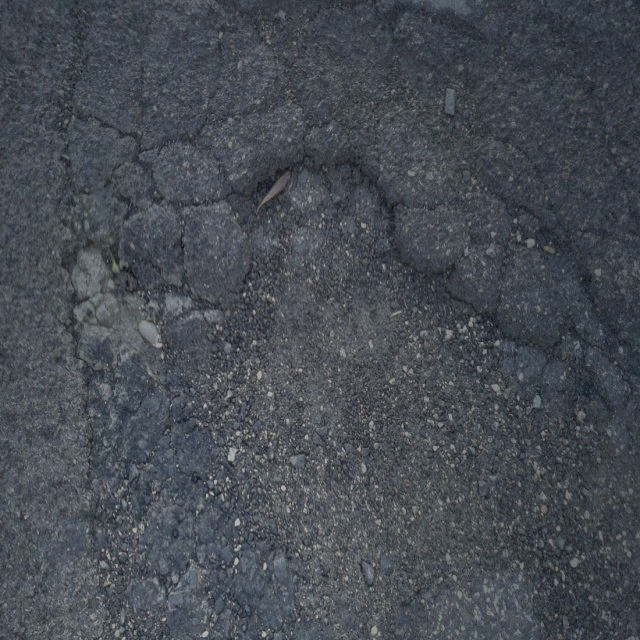pothole: (205, 147, 566, 598)
